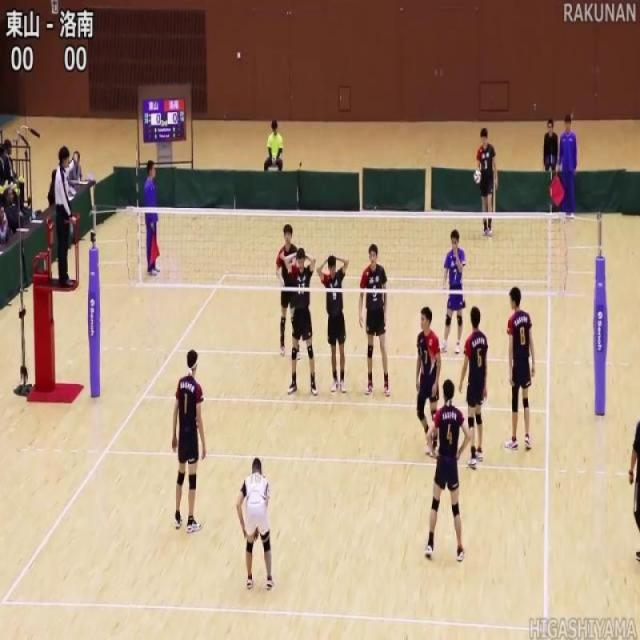volleyball: (472, 168, 482, 185)
